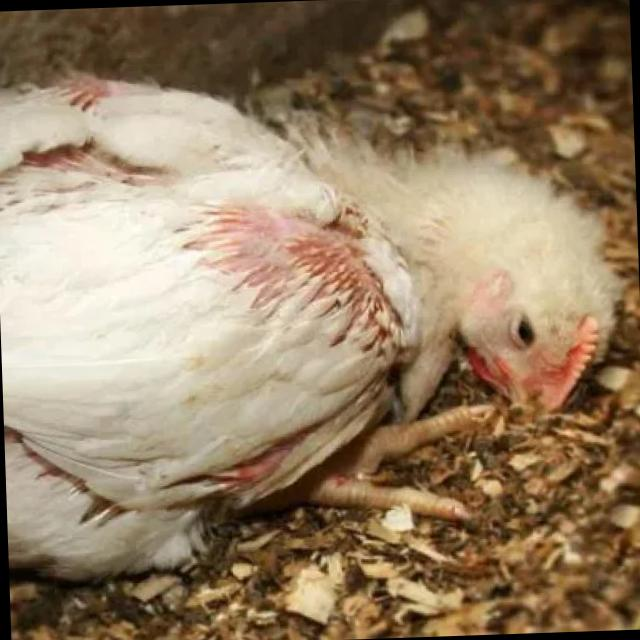abnormal chicken: (0, 56, 637, 569)
